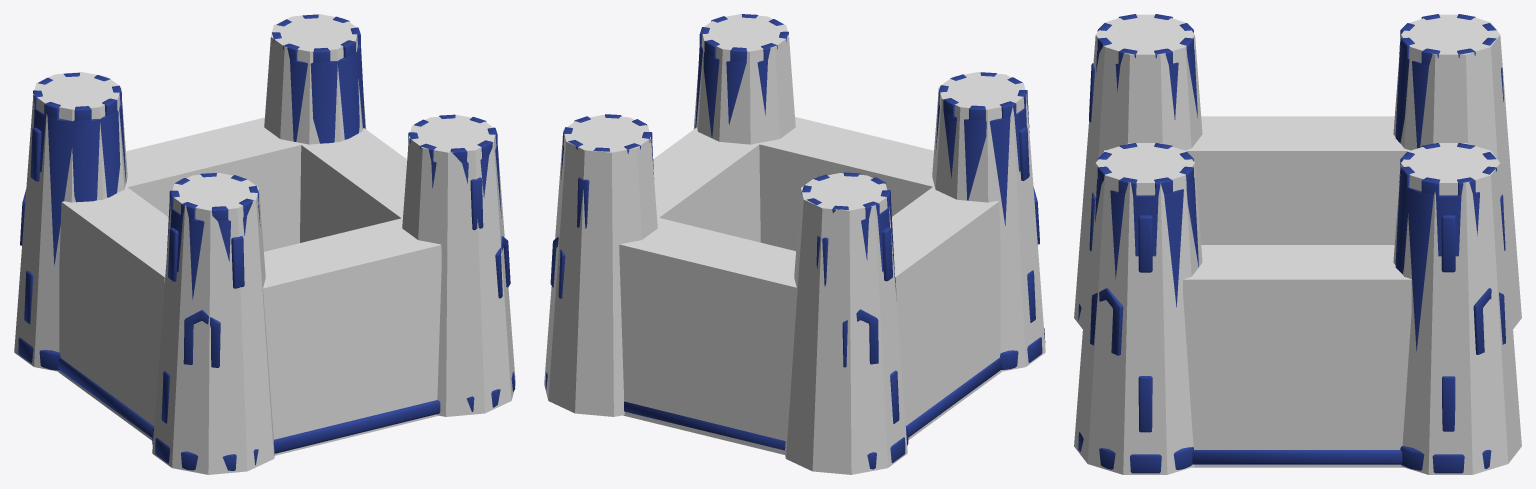
Rendered from Castle.fbx.
3 views of the same model, side by side, from view 1: azimuth 30°, elevation 25°; view 2: azimuth 150°, elevation 25°; view 3: azimuth 270°, elevation 25° (orthographic). The views are drawn at different scales.
Parts seen in each view (by area): view 1: Ccoll 4, Castle, Ccoll 7, Ccoll 8, Ccoll 2, Ccoll 3, Ccoll 5, Ccoll 1, Ccoll 6; view 2: Ccoll 3, Ccoll 5, Ccoll 6, Ccoll 2, Castle, Ccoll 7, Ccoll 4, Ccoll 1, Ccoll 8; view 3: Ccoll 1, Ccoll 8, Ccoll 6, Ccoll 2, Castle, Ccoll 7, Ccoll 5.
Part boxes in pixels (x1,y1,x2,y2): Ccoll 4: (263,218,441,455); Castle: (18,14,515,470); Ccoll 7: (152,173,274,474); Ccoll 8: (402,115,515,416); Ccoll 2: (58,186,168,440); Ccoll 3: (125,117,303,251); Ccoll 5: (14,72,127,371); Ccoll 1: (300,128,407,242); Ccoll 6: (264,14,366,144); Ccoll 3: (619,218,796,454); Ccoll 5: (784,173,907,474); Ccoll 6: (544,115,657,416); Ccoll 2: (892,186,1001,439); Castle: (545,14,1045,469); Ccoll 7: (932,72,1045,371); Ccoll 4: (757,117,934,250); Ccoll 1: (653,127,760,242); Ccoll 8: (693,14,795,144); Ccoll 1: (1183,245,1411,467); Ccoll 8: (1074,143,1202,474); Ccoll 6: (1393,143,1521,474); Ccoll 2: (1186,116,1410,244); Castle: (1078,14,1505,473); Ccoll 7: (1074,14,1202,328); Ccoll 5: (1393,14,1521,328).
Bounding box in the file's own units: 443 × 316 × 451.
